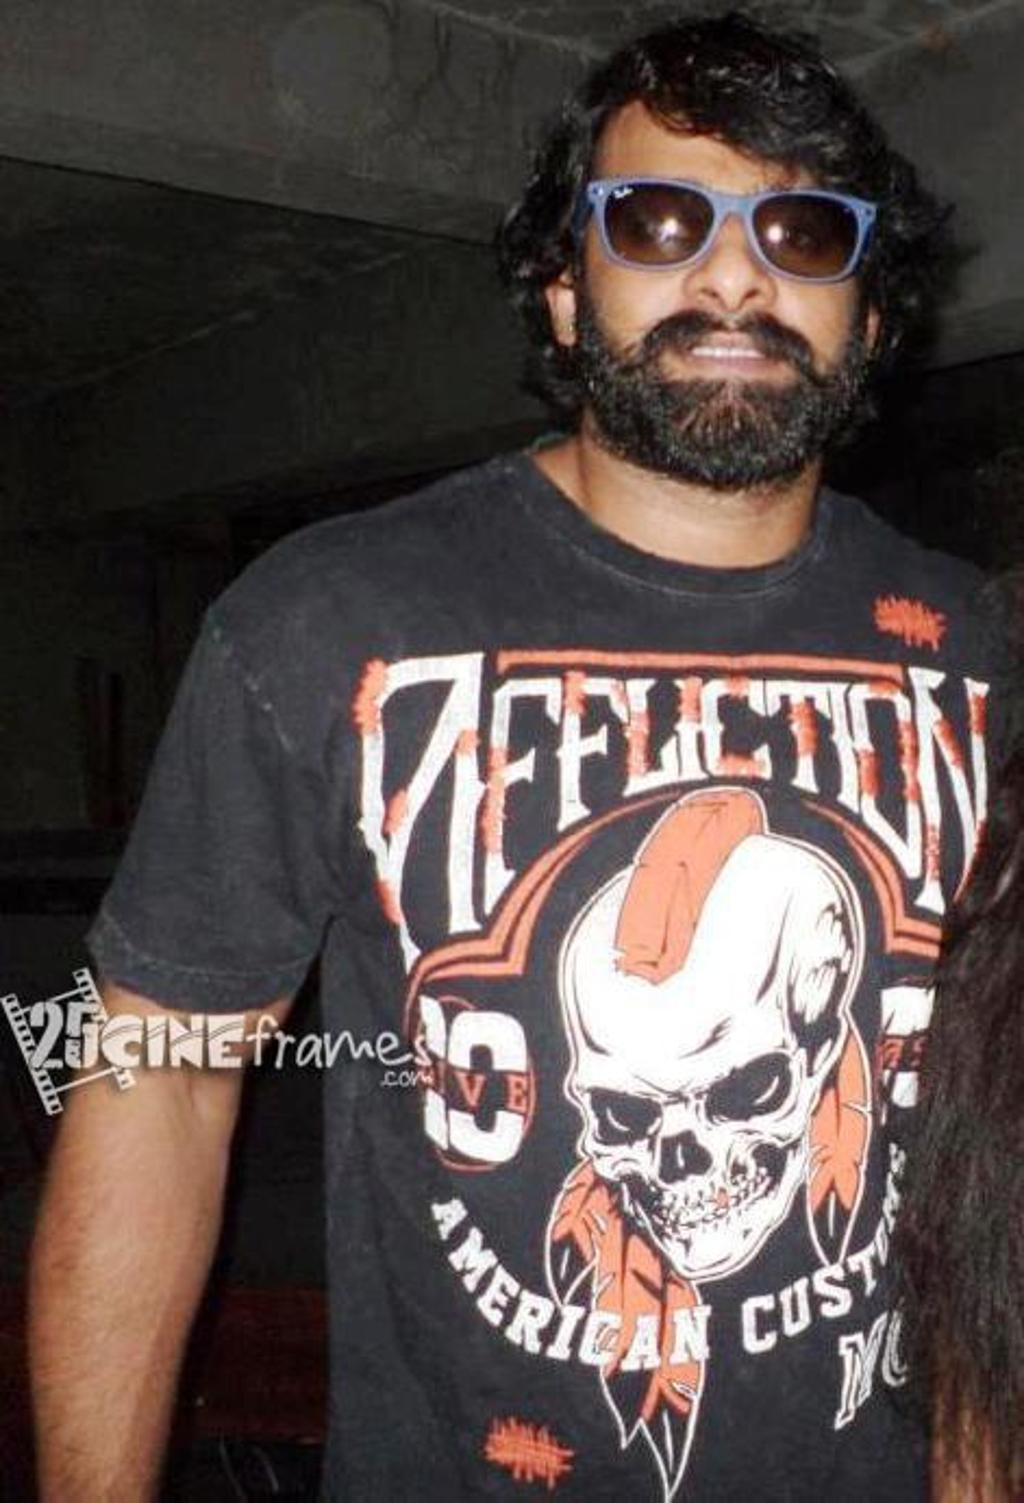face: (601, 85, 859, 452)
